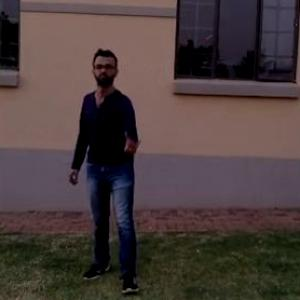takeoff-hand: (121, 126, 147, 159)
